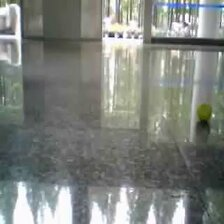tennis: (197, 104, 212, 121)
